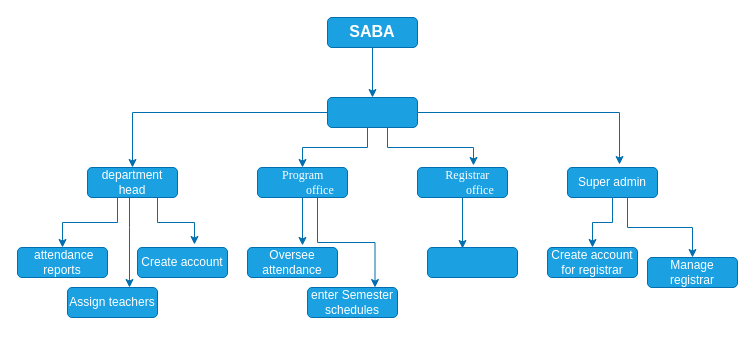
Some shapes in this 755 by 346 pixel diagram are drawn without their labels. Here are the shapes that lost their labels. From the top down, the box of each, then its label:
(326, 96, 418, 128): login
(426, 246, 518, 278): Create account
